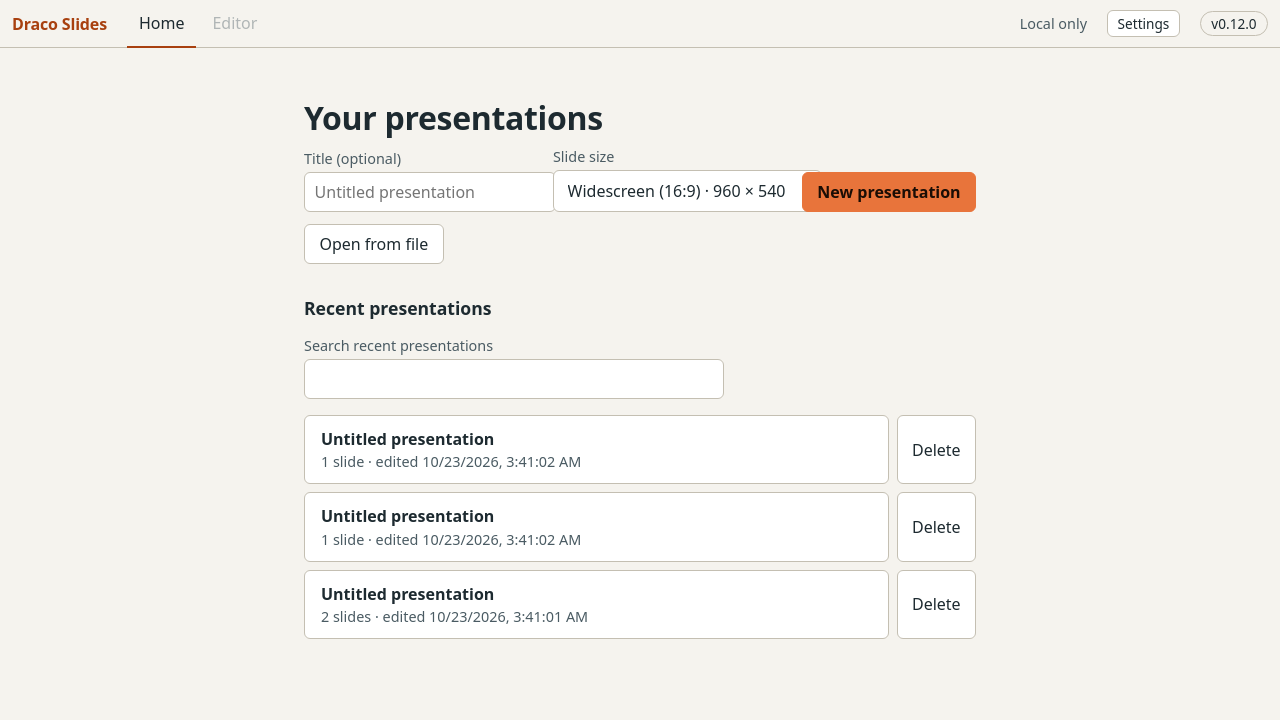
Test: Slide management UI › moves slides with the ribbon buttons and disables them at the ends
The image size is (1280, 720).
Click the button "New presentation" at x=889, y=192, box [802,172,976,212]
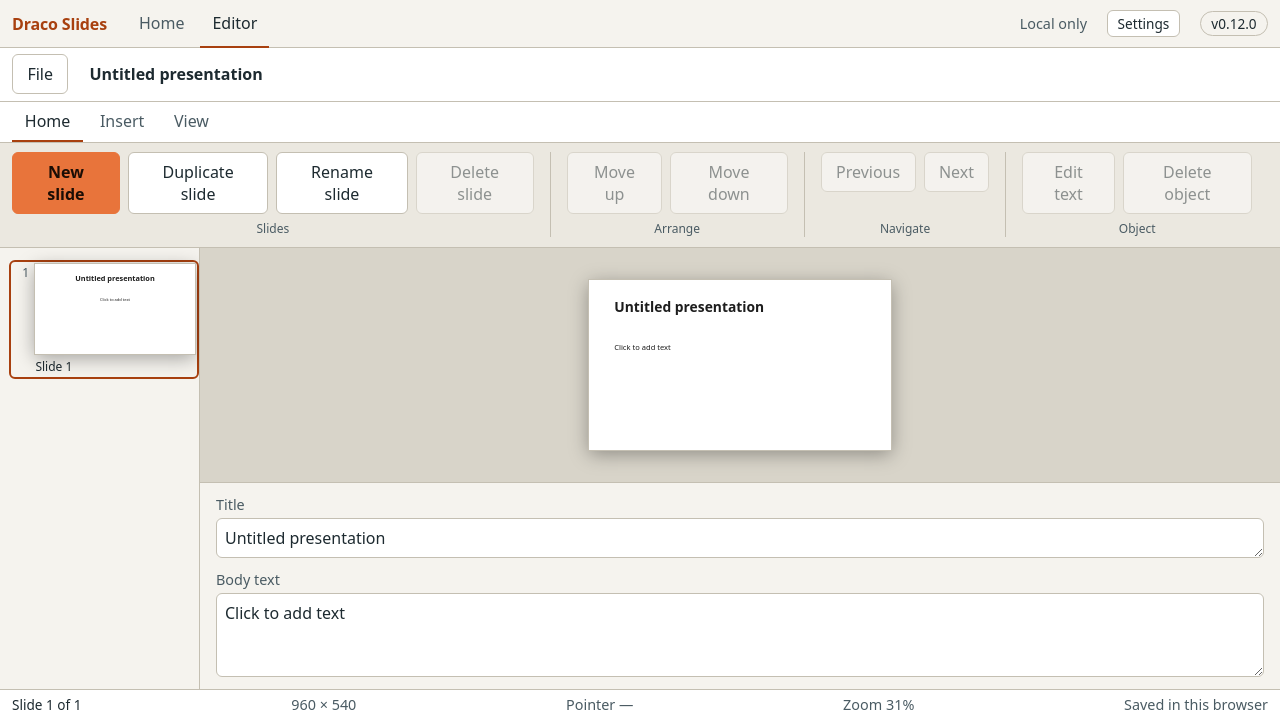
Click the button "New slide" at x=66, y=183, box [12,152,120,214]
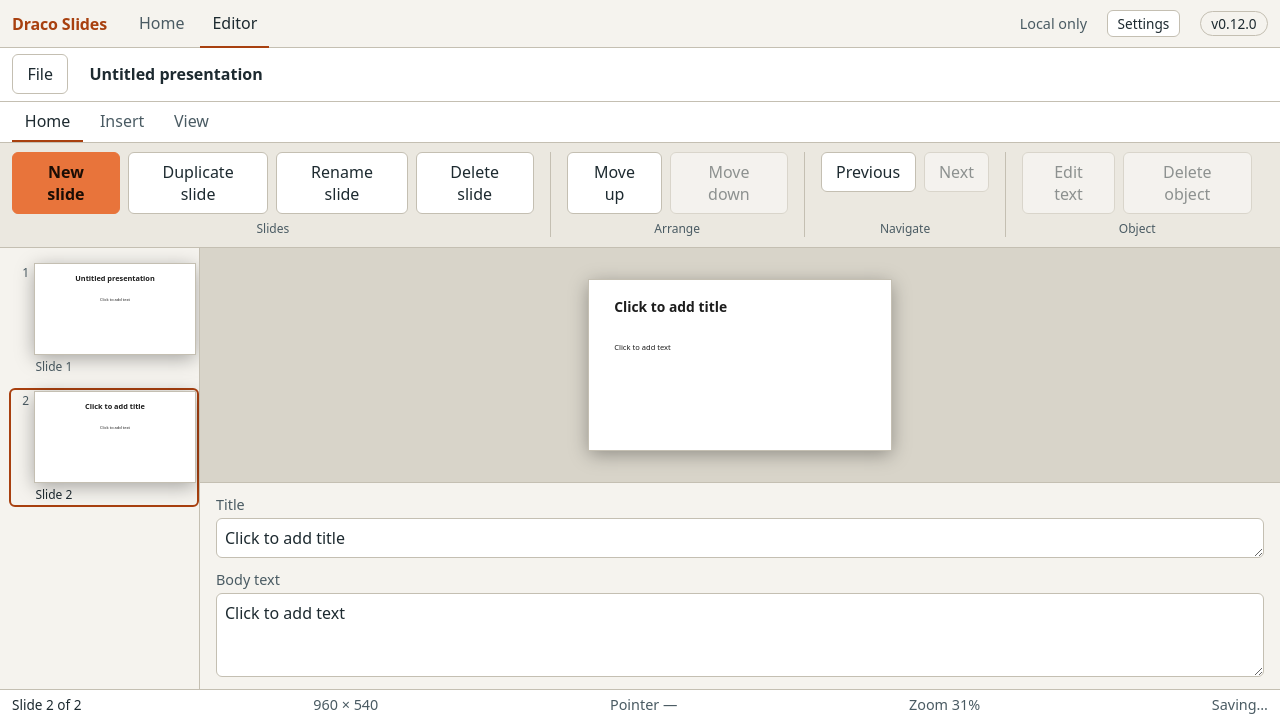
Now the button "Move down" is disabled, box [670,152,788,214]
Click the button "Move up" at x=615, y=183, box [567,152,662,214]
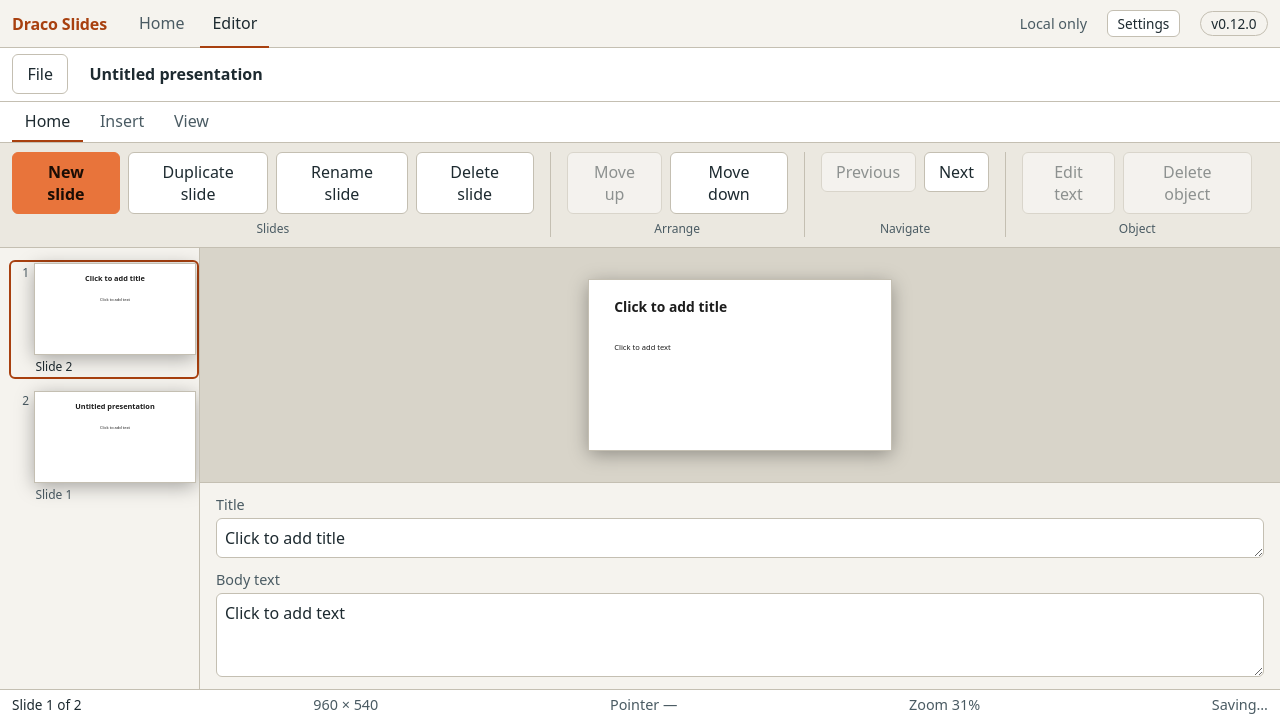
Now the text "Slide 1 of 2" is shown, box [12,695,82,714]
Now the button "Move up" is disabled, box [567,152,662,214]
